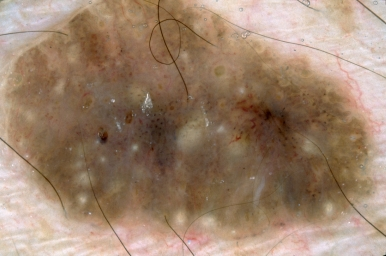seborrheic keratosis: (7, 4, 380, 237)
